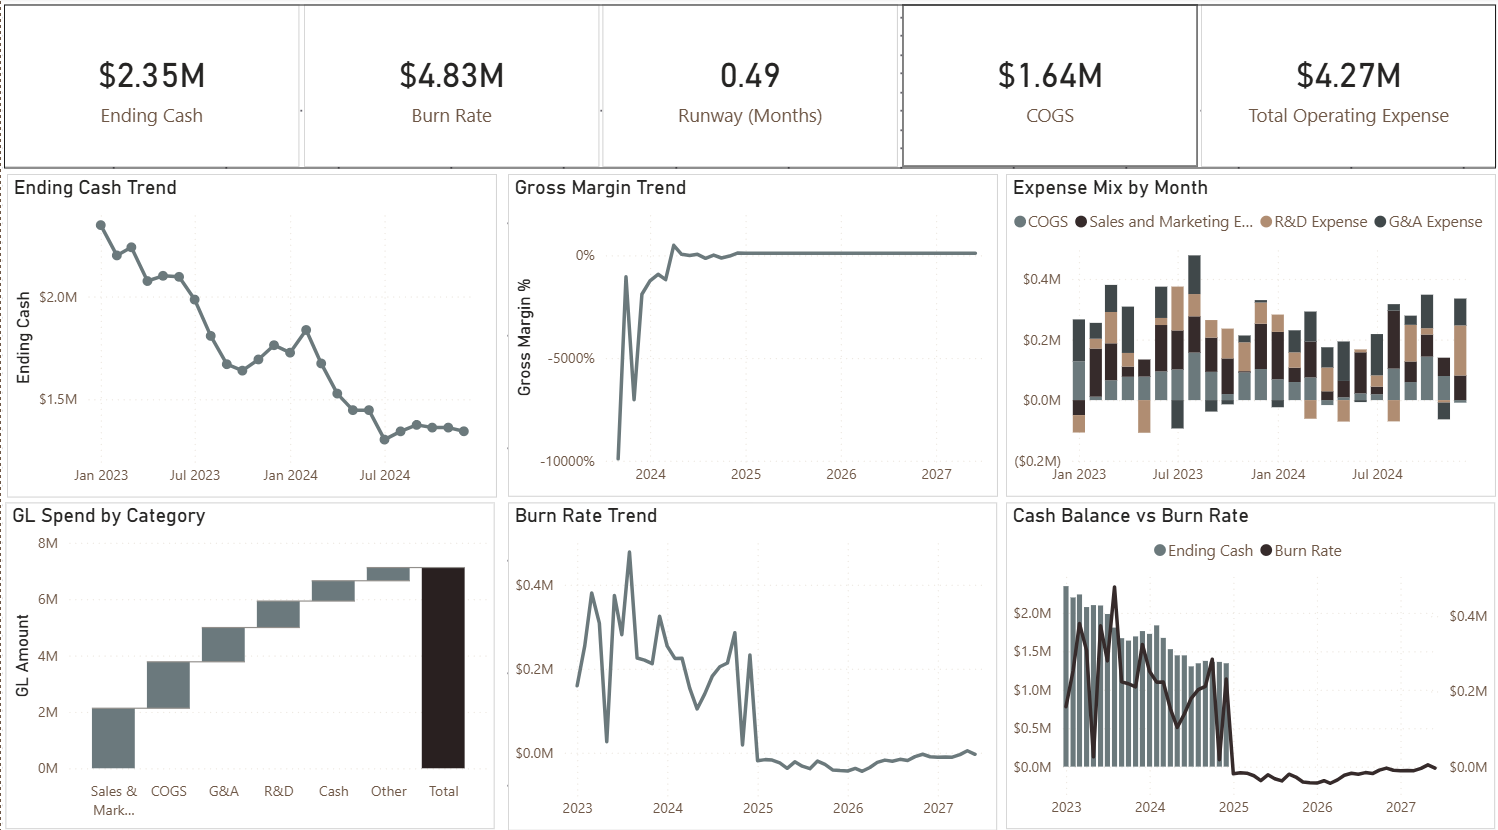

The dashboard page shown, as its layout file describes it:
{"tool":"powerbi","page":{"name":"Financial Health","canvas":[1280,720],"ordinal":2},"visuals":[{"type":"group","id":"g1","title":"Group 1","box":[2.6,6.7,1274,138.7],"z":0},{"type":"card","fields":{"Values":["_key_metrics.Ending Cash"]},"box":[2.6,6.7,252,138.5],"z":0,"group":"g1"},{"type":"card","fields":{"Values":["_key_metrics.Burn Rate"]},"box":[258.1,6.7,252,138.7],"z":1000,"group":"g1"},{"type":"lineChart","title":"Ending Cash Trend","fields":{"Category":["dim_month.year_month"],"Y":["_key_metrics.Ending Cash"]},"box":[5.1,151.3,417.8,275.8],"z":1000,"group":"g2"},{"type":"waterfallChart","title":"GL Spend by Category","fields":{"Category":["dim_account.account_category"],"Y":["_key_metrics.GL Amount"]},"box":[3.8,431.6,417.5,278.8],"z":1000,"group":"g3"},{"type":"card","fields":{"Values":["_key_metrics.Runway (Months)"]},"box":[513.6,6.7,252,138.7],"z":2000,"group":"g1"},{"type":"group","id":"g2","title":"Group 2","box":[5.1,151.3,1270.9,275.8],"z":2000},{"type":"lineChart","title":"Gross Margin Trend","fields":{"Category":["dim_month.year_month"],"Y":["_key_metrics.Gross Margin %"]},"box":[432.1,151.3,417.8,275.7],"z":2000,"group":"g2"},{"type":"card","fields":{"Values":["_key_metrics.COGS"]},"box":[769.1,6.7,252,138.7],"z":3000,"group":"g1"},{"type":"columnChart","title":"Expense Mix by Month","fields":{"Category":["dim_month.year_month"],"Y":["_key_metrics.COGS","_key_metrics.Sales and Marketing Expense","_key_metrics.R&D Expense","_key_metrics.G&A Expense"]},"box":[858.1,151.3,417.8,275.7],"z":3000,"group":"g2"},{"type":"lineChart","title":"Burn Rate Trend","fields":{"Y":["_key_metrics.Burn Rate"],"Category":["dim_month.year_month"]},"box":[432.8,431.6,417.5,280.3],"z":3000,"group":"g3"},{"type":"card","fields":{"Values":["_key_metrics.Total Operating Expense"]},"box":[1024.6,6.7,252,138.7],"z":4000,"group":"g1"},{"type":"lineClusteredColumnComboChart","title":"Cash Balance vs Burn Rate","fields":{"Category":["dim_month.year_month"],"Y":["_key_metrics.Ending Cash"],"Y2":["_key_metrics.Burn Rate"]},"box":[857.6,431.6,417.3,279],"z":4000,"group":"g3"},{"type":"group","id":"g3","title":"Group 3","box":[3.8,431.6,1271,280.3],"z":4001}]}

Visuals, with their boxes in screenshot pixels (x1, y1, x2, y2), scaled from the page's 1280x720 canvas onto the 1498x830 screenshot:
"Group 1" group: 3 8 1494 168
card - _key_metrics.Ending Cash: 3 8 298 167
card - _key_metrics.Burn Rate: 302 8 597 168
"Ending Cash Trend" lineChart: 6 174 495 492
"GL Spend by Category" waterfallChart: 4 498 493 819
card - _key_metrics.Runway (Months): 601 8 896 168
"Group 2" group: 6 174 1493 492
"Gross Margin Trend" lineChart: 506 174 995 492
card - _key_metrics.COGS: 900 8 1195 168
"Expense Mix by Month" columnChart: 1004 174 1493 492
"Burn Rate Trend" lineChart: 507 498 995 821
card - _key_metrics.Total Operating Expense: 1199 8 1494 168
"Cash Balance vs Burn Rate" lineClusteredColumnComboChart: 1004 498 1492 819
"Group 3" group: 4 498 1492 821
